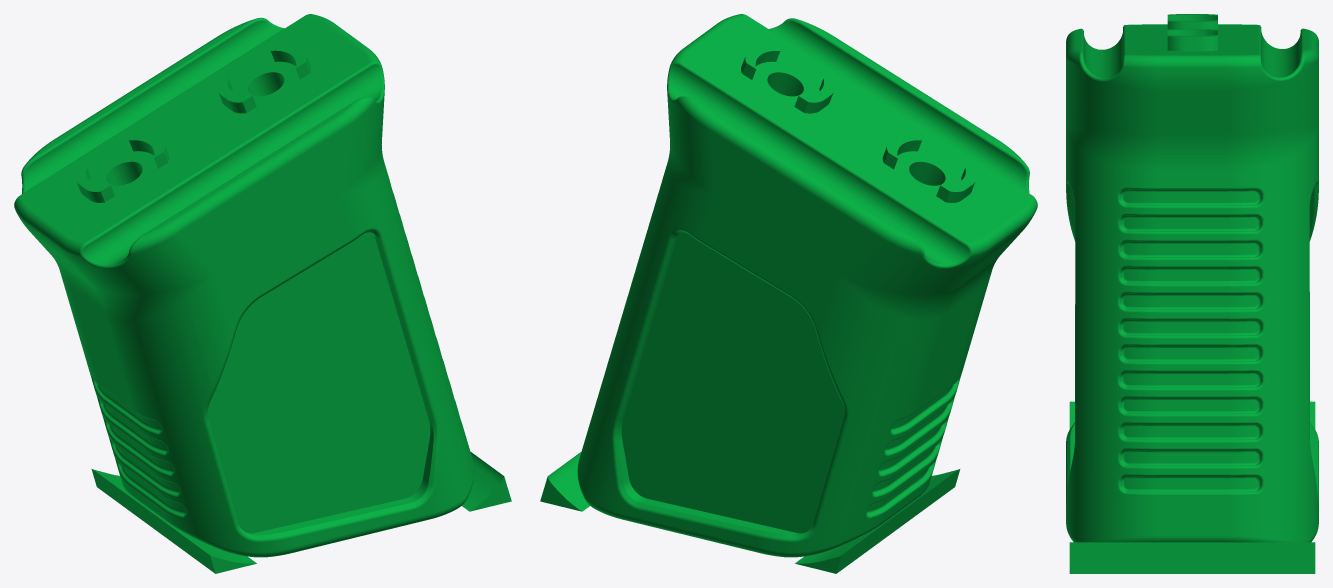
The model's file is angled-foregrip.glb.
The picture shows the model from 3 angles, left to right: view 1: azimuth 30°, elevation 25°; view 2: azimuth 150°, elevation 25°; view 3: azimuth 270°, elevation 25°; orthographic projection. The views are drawn at different scales.
Parts seen in each view (by area): view 1: angled_vertical_foregrip.stl_fil1; view 2: angled_vertical_foregrip.stl_fil1; view 3: angled_vertical_foregrip.stl_fil1.
Boxes of the visible parts, x1,y1,x2,y2 form: angled_vertical_foregrip.stl_fil1: (14, 14, 511, 573); angled_vertical_foregrip.stl_fil1: (540, 14, 1037, 573); angled_vertical_foregrip.stl_fil1: (1066, 14, 1318, 573).
Bounding box in the file's own units: 0.0558 × 0.0584 × 0.0288.
